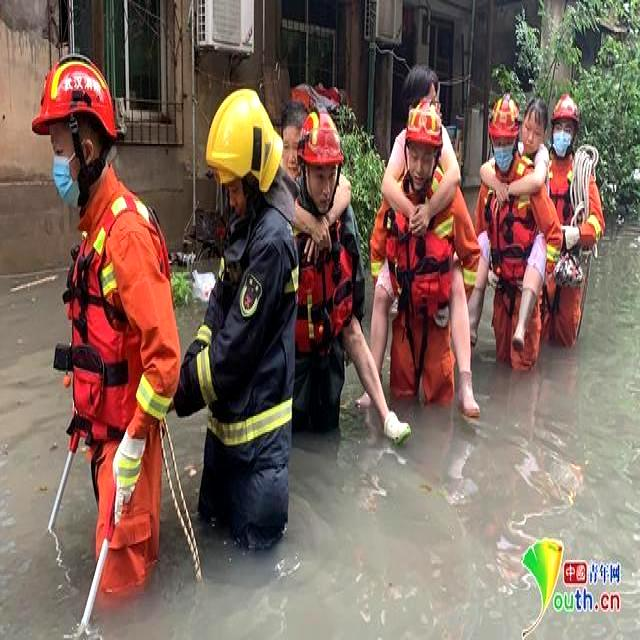civilian: (272, 101, 413, 448), (364, 52, 486, 434), (467, 90, 549, 356)
rescuer: (27, 52, 175, 610), (170, 90, 307, 585), (369, 104, 489, 449), (464, 94, 570, 376), (284, 116, 362, 456), (539, 79, 608, 359)
